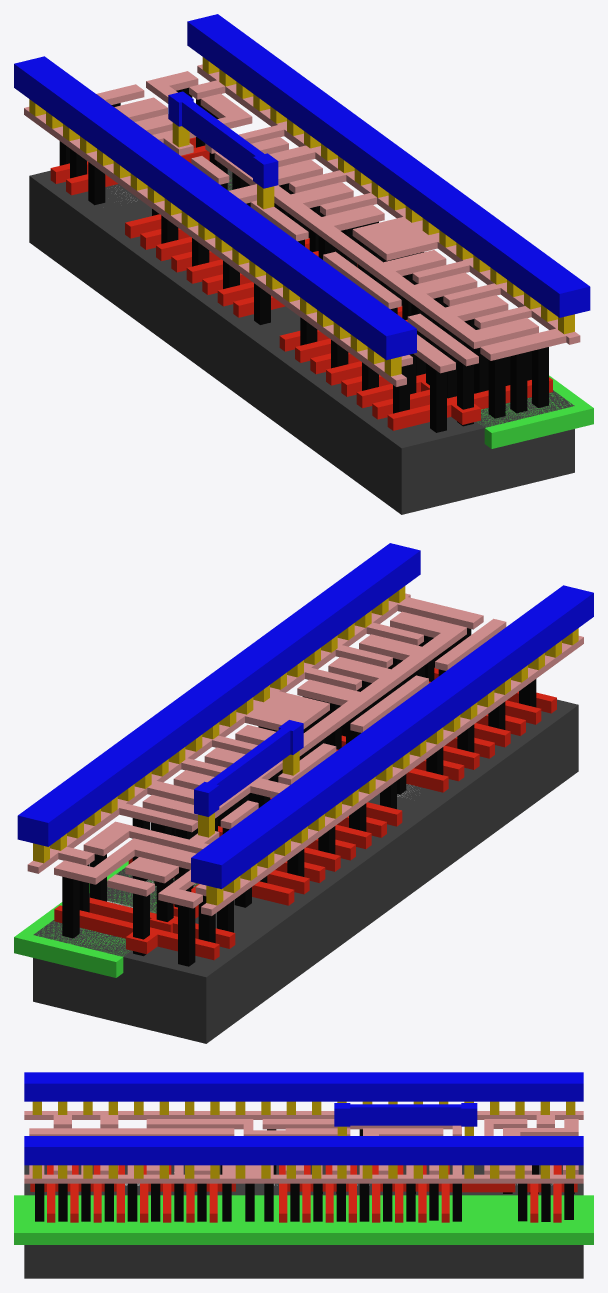
File: sky130_fd_sc_hd__nand4bb_4.obj
The picture shows the model from 3 angles, top to bottom: view 1: azimuth 30°, elevation 25°; view 2: azimuth 150°, elevation 25°; view 3: azimuth 270°, elevation 25°; orthographic projection. The views are drawn at different scales.
Parts seen in each view (by area): view 1: metal1, subs, li, licon, poly, mcon, nwell; view 2: metal1, subs, li, poly, licon, mcon, nwell; view 3: metal1, subs, nwell, li, poly, licon, mcon.
Part boxes in pixels (box(x1,y1,x2,y2)): metal1: box(14, 14, 590, 360); subs: box(29, 169, 574, 514); li: box(24, 64, 580, 386); licon: box(59, 87, 548, 432); poly: box(50, 137, 552, 430); mcon: box(29, 57, 574, 376); nwell: box(229, 180, 593, 448); metal1: box(17, 543, 593, 889); subs: box(33, 699, 578, 1043); li: box(27, 593, 583, 915); poly: box(54, 667, 556, 960); licon: box(62, 628, 536, 966); mcon: box(33, 586, 578, 905); nwell: box(14, 861, 197, 977); metal1: box(24, 1072, 583, 1165); subs: box(24, 1165, 583, 1278); nwell: box(14, 1195, 593, 1244); li: box(24, 1111, 583, 1183); poly: box(30, 1165, 577, 1222); licon: box(35, 1129, 574, 1221); mcon: box(32, 1101, 575, 1178).
Size of the model in its own units: 3.2 by 2.74 by 10.5.
